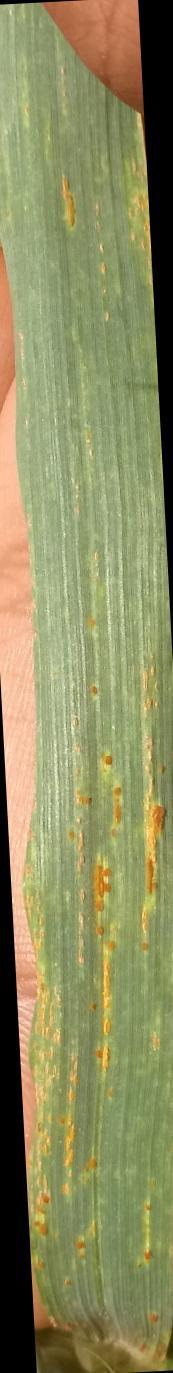Wheat: (51, 645, 162, 1267)
